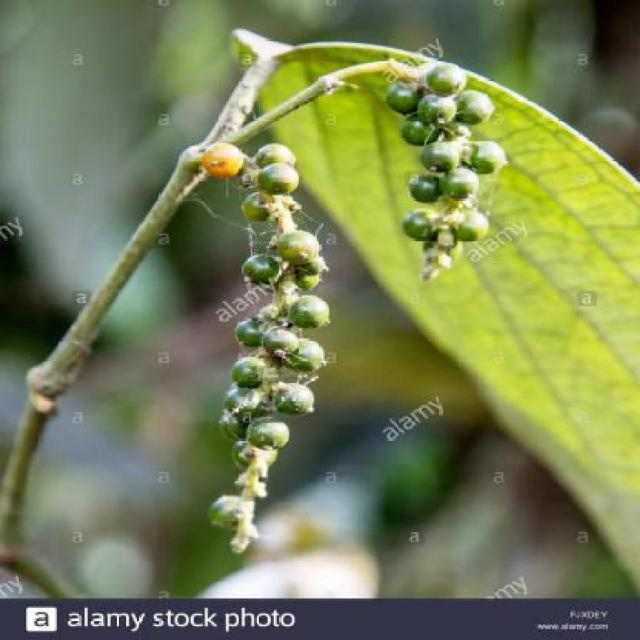UNRIPE: (208, 162, 335, 539), (385, 61, 514, 282)
